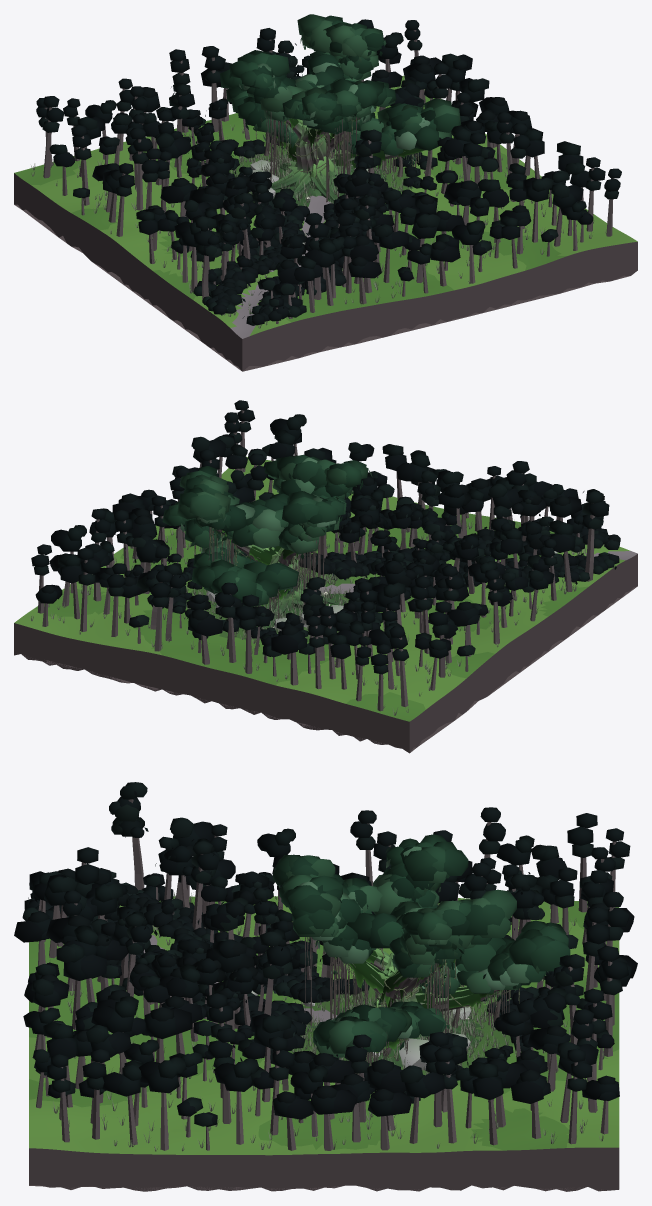
File: VikramVetal_Scene.glb
The picture shows the model from 3 angles, top to bottom: view 1: azimuth 30°, elevation 25°; view 2: azimuth 150°, elevation 25°; view 3: azimuth 270°, elevation 25°; orthographic projection. The views are drawn at different scales.
Parts seen in each view (by area): view 1: Jungle, Terrain, Peepal_Canopy, Peepal_Trunk, Peepal_AerialRoots, Peepal_MossDrapes; view 2: Jungle, Terrain, Peepal_Canopy, Peepal_AerialRoots, Peepal_Trunk, Peepal_MossDrapes; view 3: Jungle, Terrain, Peepal_Canopy, Peepal_AerialRoots, Peepal_MossDrapes, Peepal_Trunk, Props.
Boxes of the visible parts, <box> form: Jungle: <box>36,19,621,325</box>; Terrain: <box>14,75,637,371</box>; Peepal_Canopy: <box>220,14,461,165</box>; Peepal_Trunk: <box>271,118,425,202</box>; Peepal_AerialRoots: <box>255,110,433,202</box>; Peepal_MossDrapes: <box>270,118,423,170</box>; Jungle: <box>31,400,620,711</box>; Terrain: <box>14,456,637,753</box>; Peepal_Canopy: <box>162,454,372,607</box>; Peepal_AerialRoots: <box>194,527,326,638</box>; Peepal_Trunk: <box>216,529,343,626</box>; Peepal_MossDrapes: <box>216,526,303,607</box>; Jungle: <box>14,782,637,1150</box>; Terrain: <box>29,892,619,1191</box>; Peepal_Canopy: <box>273,834,575,1059</box>; Peepal_AerialRoots: <box>304,937,545,1074</box>; Peepal_MossDrapes: <box>335,948,503,1055</box>; Peepal_Trunk: <box>307,948,500,1066</box>; Props: <box>251,990,471,1070</box>.
Size of the model in its own units: 42.11 by 15.81 by 42.27.
